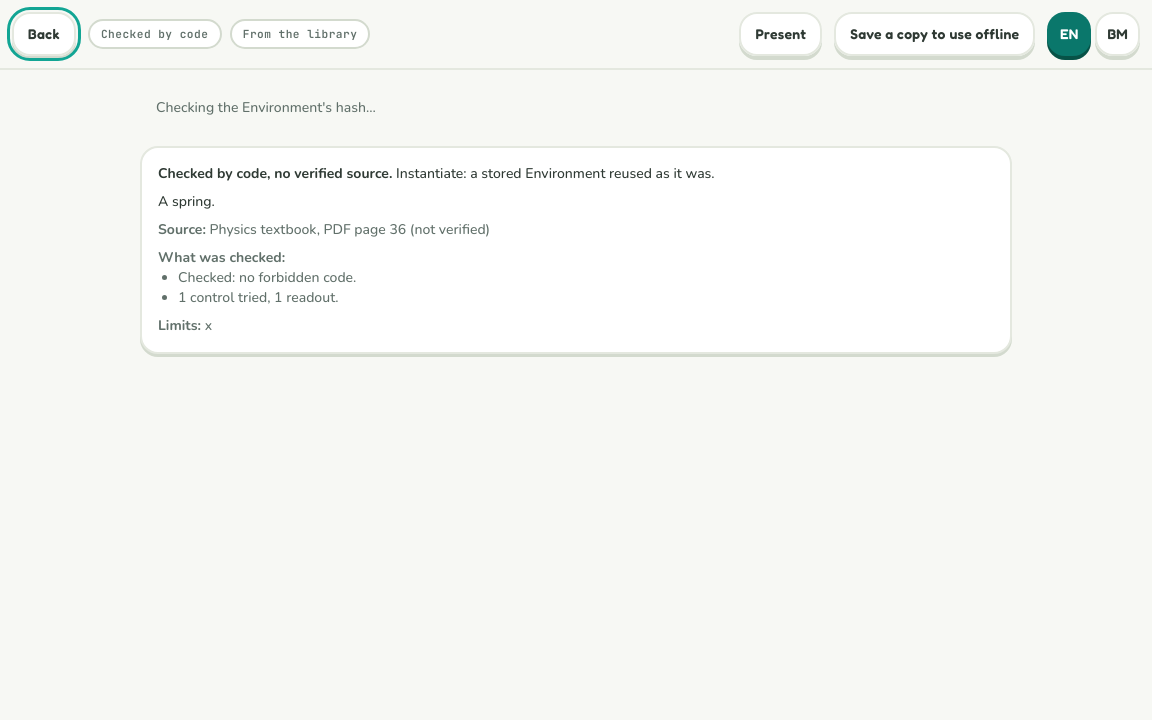
Scenario: Present mode › is off until asked, says Presenting when on, and keeps the label, the lane and the source visible
Check: the text "Presenting" is not shown
Check: the element named "Where this Environment comes from" is shown, box [140,146,1012,354]
Click the button "Present": (781, 34) [740,12,822,56]
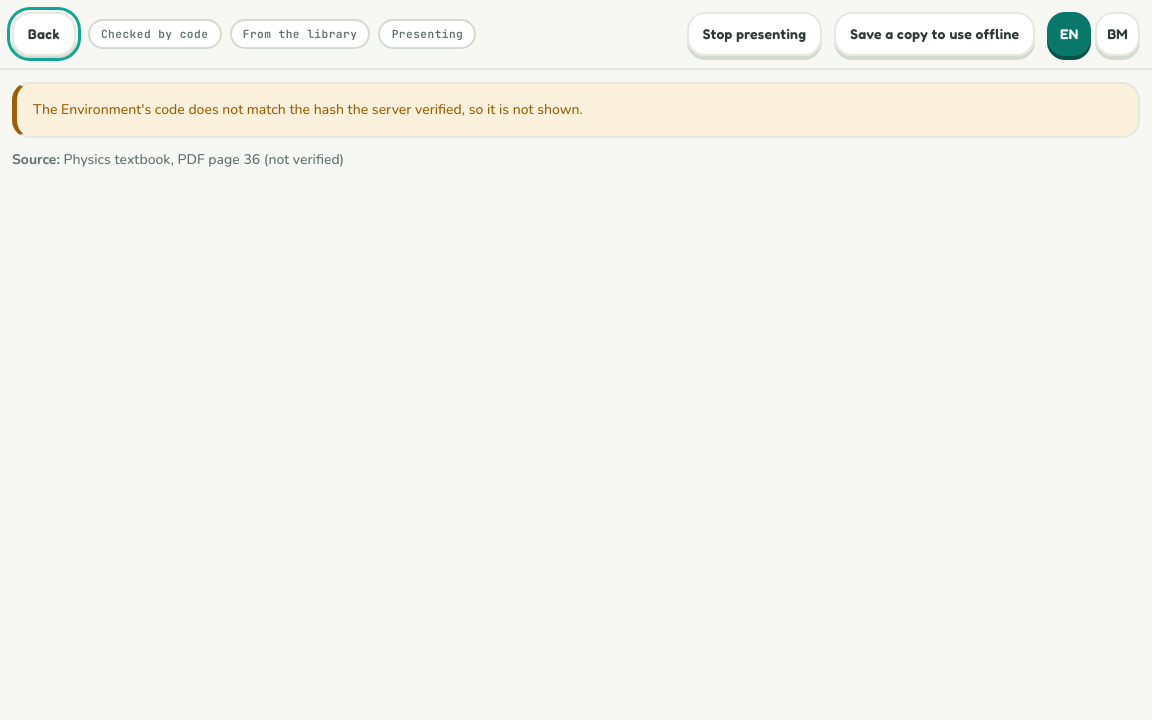
Check: the text "Checked by code" is shown, box [88,19,222,49]
Check: the text "Presenting" is shown, box [378,19,476,49]
